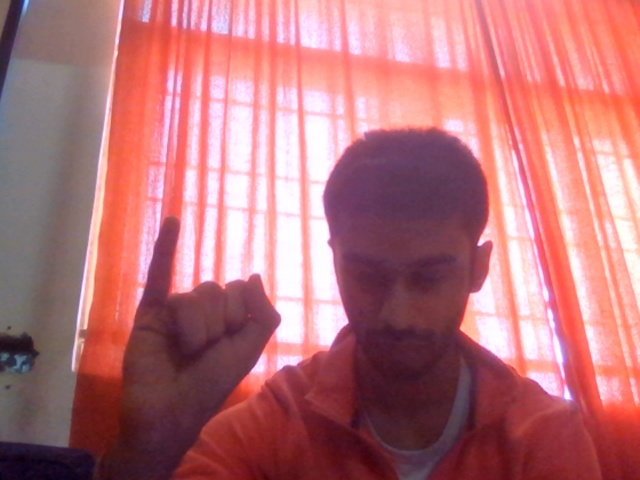I: (100, 175, 301, 480)
